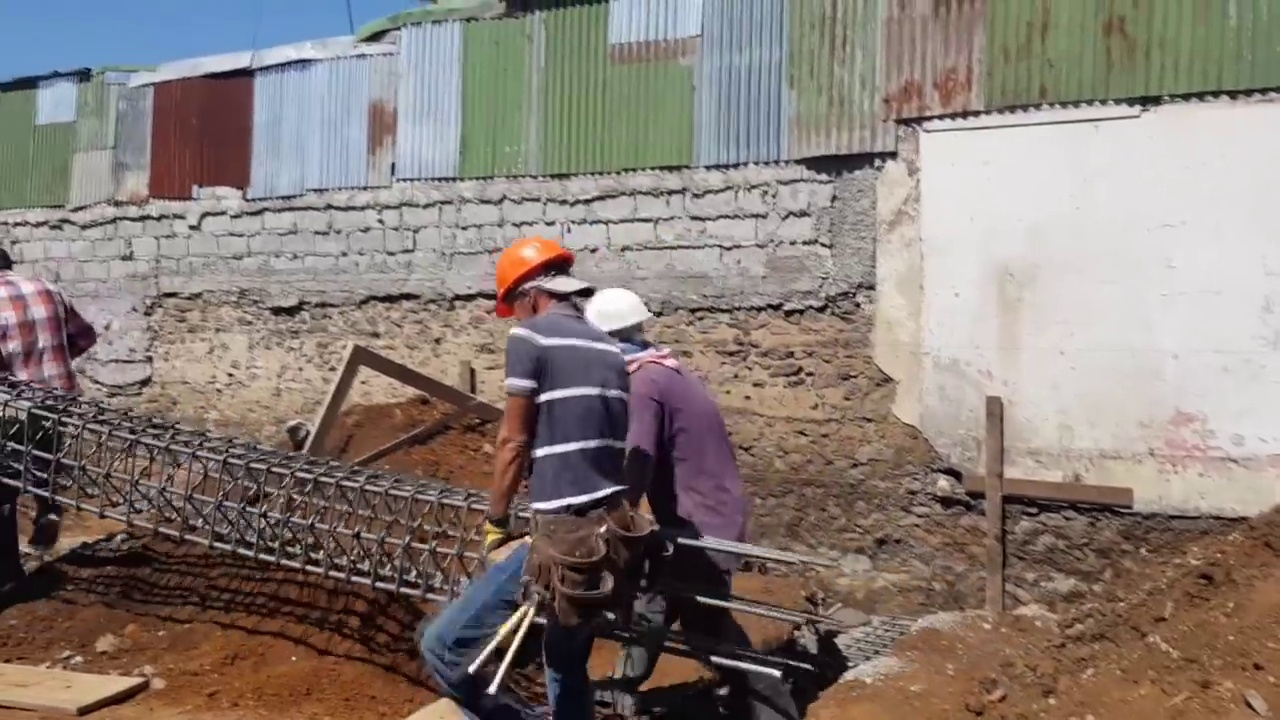helmet: (496, 236, 570, 319), (585, 288, 648, 339)
helmet-on: (492, 236, 590, 328), (580, 276, 658, 358)
person: (415, 230, 630, 716), (582, 273, 802, 714), (0, 271, 90, 584)
